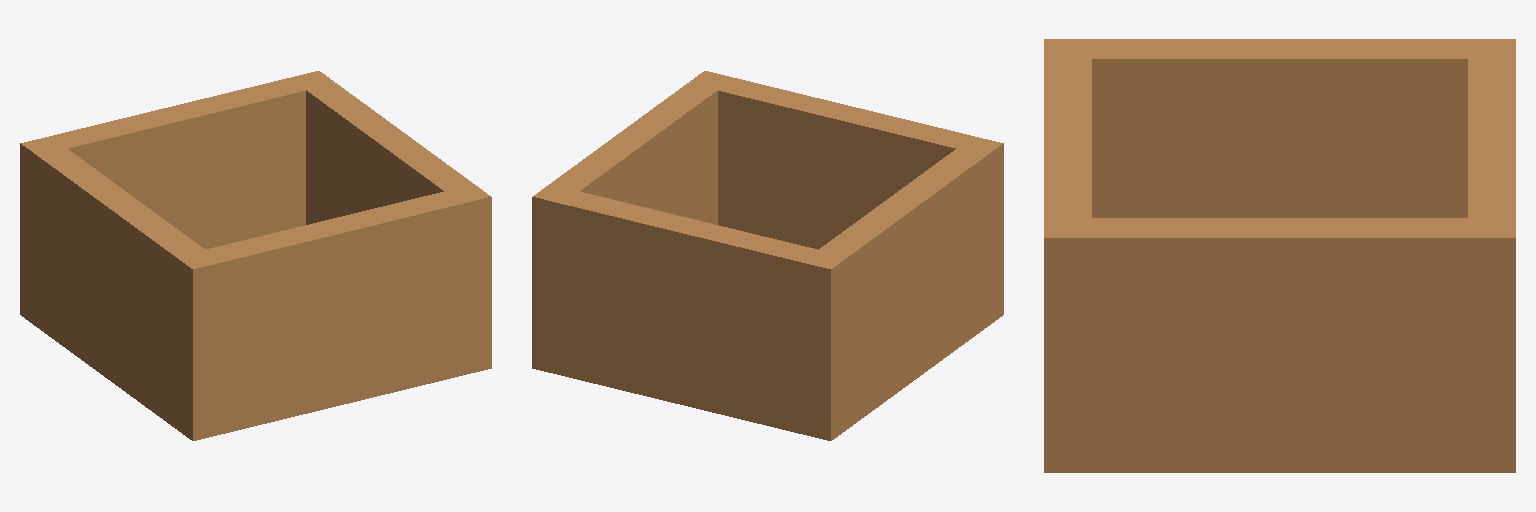
The robot description file, URDF, robot "box_container":
<?xml version="1.0" ?>
<robot name="box_container">
  <!-- A single link for the container -->
  <link name="base_link">
    <!-- Inertial properties -->
    <inertial>
      <mass value="0.5"/>
      <origin rpy="0 0 0" xyz="0 0 0.05"/>
      <inertia ixx="0.001" ixy="0" ixz="0" iyy="0.001" iyz="0" izz="0.001"/>
    </inertial>

    <!-- Bottom plate -->
    <visual>
      <origin rpy="0 0 0" xyz="0 0 0.01"/>
      <geometry>
        <box size="0.2 0.2 0.02"/>
      </geometry>
      <material name="wood">
        <color rgba="0.8 0.6 0.4 1"/>
      </material>
    </visual>
    <collision>
      <origin rpy="0 0 0" xyz="0 0 0.01"/>
      <geometry>
        <box size="0.2 0.2 0.02"/>
      </geometry>
    </collision>

    <!-- Front wall (+X) -->
    <visual>
      <origin rpy="0 0 0" xyz="0.09 0 0.06"/>
      <geometry>
        <box size="0.02 0.2 0.1"/>
      </geometry>
      <material name="wood"/>
    </visual>
    <collision>
      <origin rpy="0 0 0" xyz="0.09 0 0.06"/>
      <geometry>
        <box size="0.02 0.2 0.1"/>
      </geometry>
    </collision>

    <!-- Back wall (-X) -->
    <visual>
      <origin rpy="0 0 0" xyz="-0.09 0 0.06"/>
      <geometry>
        <box size="0.02 0.2 0.1"/>
      </geometry>
      <material name="wood"/>
    </visual>
    <collision>
      <origin rpy="0 0 0" xyz="-0.09 0 0.06"/>
      <geometry>
        <box size="0.02 0.2 0.1"/>
      </geometry>
    </collision>

    <!-- Left wall (+Y) -->
    <visual>
      <origin rpy="0 0 0" xyz="0 0.09 0.06"/>
      <geometry>
        <box size="0.16 0.02 0.1"/>
      </geometry>
      <material name="wood"/>
    </visual>
    <collision>
      <origin rpy="0 0 0" xyz="0 0.09 0.06"/>
      <geometry>
        <box size="0.16 0.02 0.1"/>
      </geometry>
    </collision>

    <!-- Right wall (-Y) -->
    <visual>
      <origin rpy="0 0 0" xyz="0 -0.09 0.06"/>
      <geometry>
        <box size="0.16 0.02 0.1"/>
      </geometry>
      <material name="wood"/>
    </visual>
    <collision>
      <origin rpy="0 0 0" xyz="0 -0.09 0.06"/>
      <geometry>
        <box size="0.16 0.02 0.1"/>
      </geometry>
    </collision>
  </link>
</robot>

--- Render facts (derived) ---
Views: 3 orthographic renders of the robot side by side, from view 1: azimuth 30°, elevation 25°; view 2: azimuth 150°, elevation 25°; view 3: azimuth 270°, elevation 25°.
Robot: box_container — 1 links, 0 joints (none); root link base_link; default pose: every joint at zero.
Visible links, largest first — view 1: base_link; view 2: base_link; view 3: base_link.
Boxes of the visible links, x1=… form: base_link: x1=20, y1=71, x2=491, y2=440; base_link: x1=532, y1=71, x2=1003, y2=440; base_link: x1=1044, y1=39, x2=1515, y2=472.
Size in the robot's own frame: 0.2 by 0.2 by 0.11 metres.
Geometry: primitives only (box / cylinder / sphere), no mesh files.
